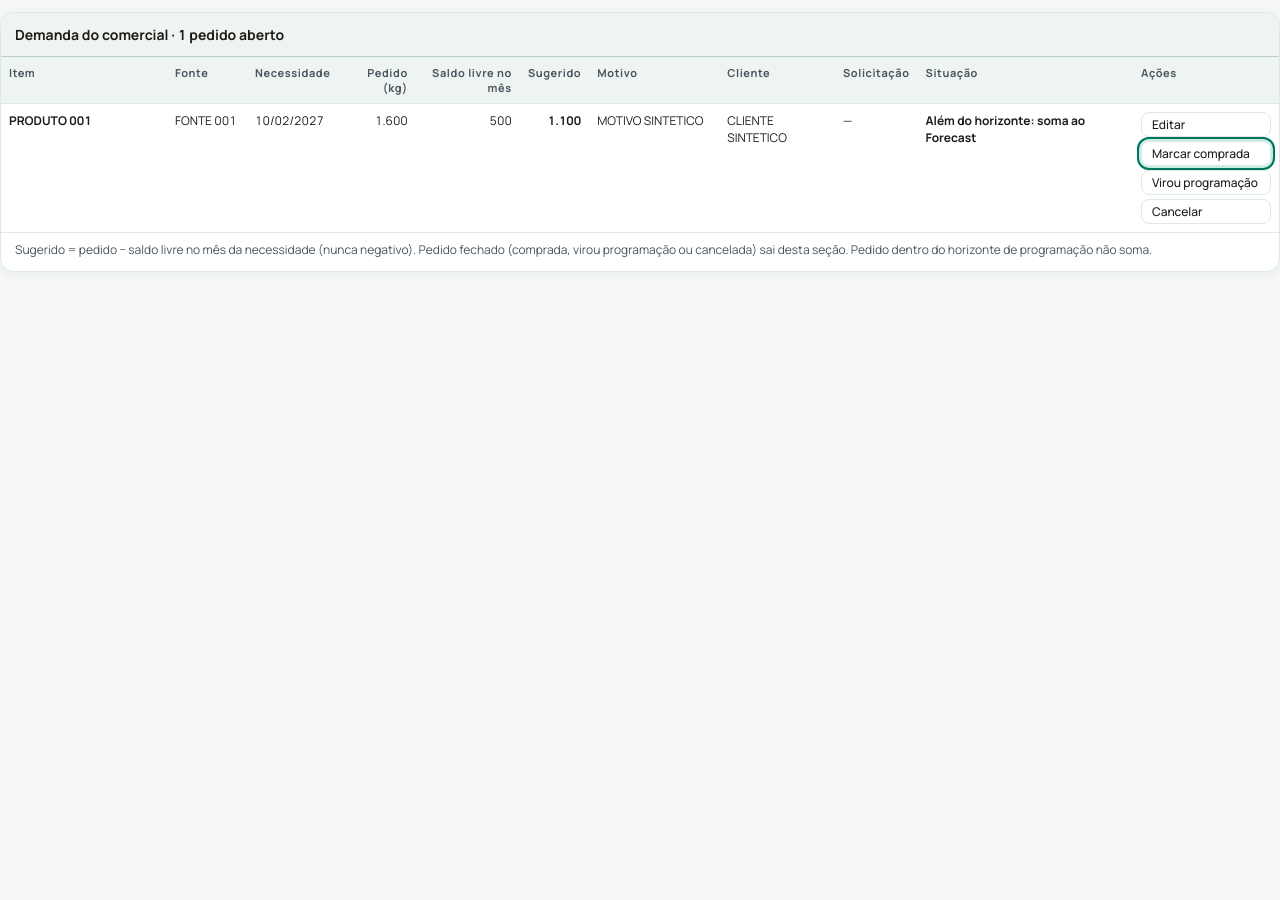
it: ForecastRelatorioDemandaComercial - fechar o pedido › marcar comprada: dialogo, confirmar grava {status} sem nota, avisa a tela e devolve o foco
Step 1. Click the button with aria-label "Marcar comprada:" → (1206, 154), box x1=1141 y1=141 x2=1271 y2=166
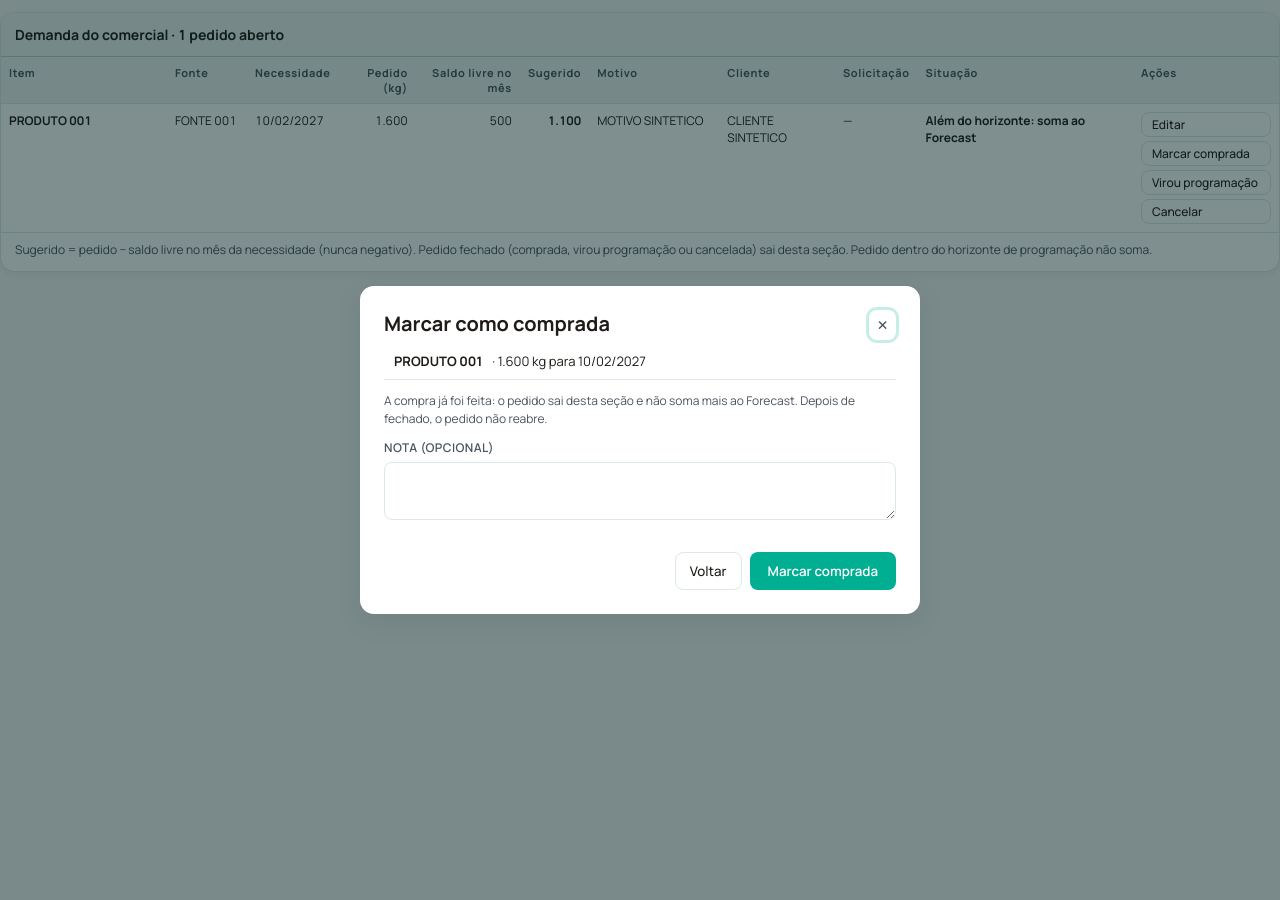
expect the heading "Marcar como comprada" is shown: met, box x1=384 y1=310 x2=610 y2=337
expect the text "A compra já foi feita: o pedido sai desta seção" is shown: met, box x1=384 y1=392 x2=798 y2=409
Step 2. Click the button "Marcar comprada" → (823, 571), box x1=750 y1=552 x2=896 y2=590
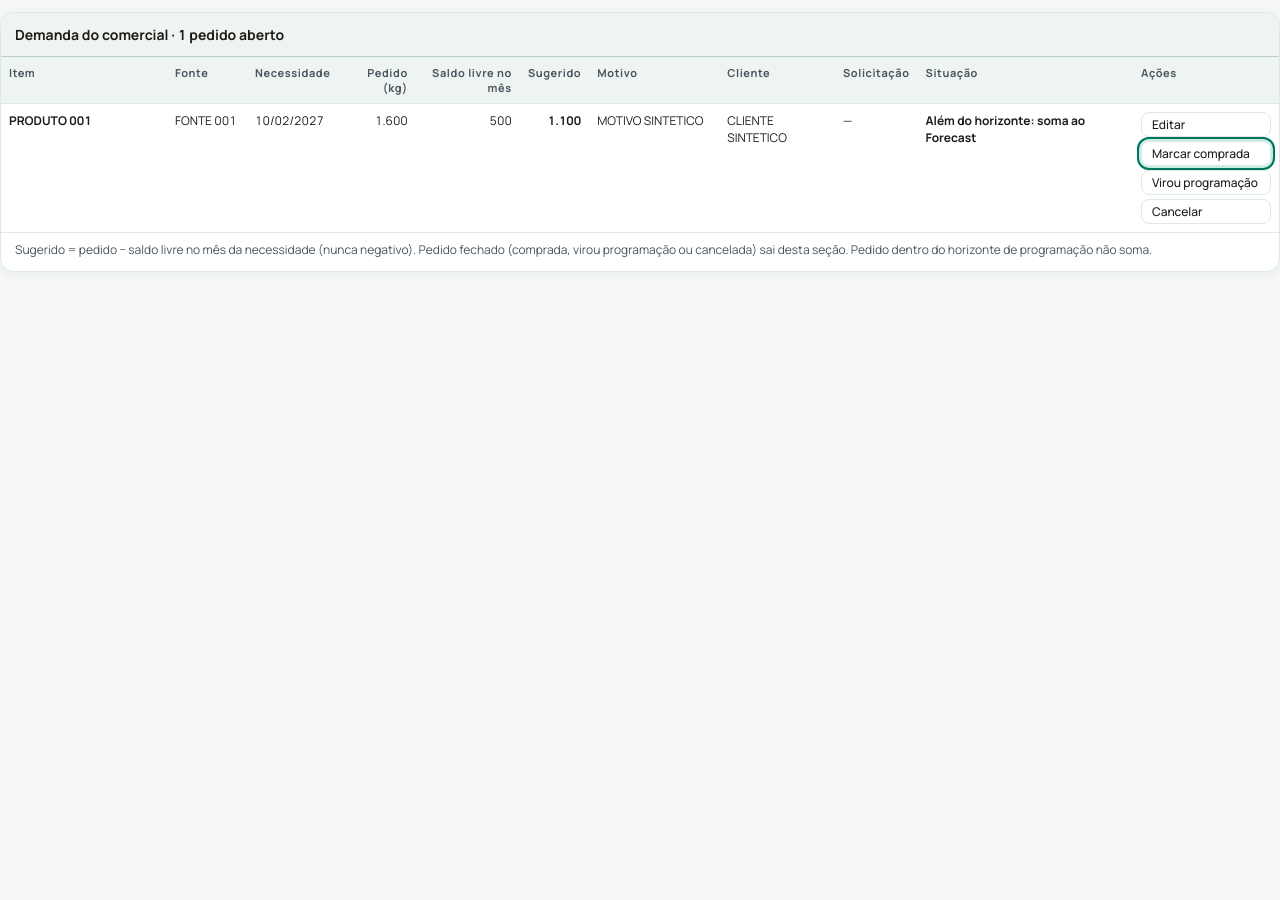
expect the heading "Marcar como comprada" is gone: met
